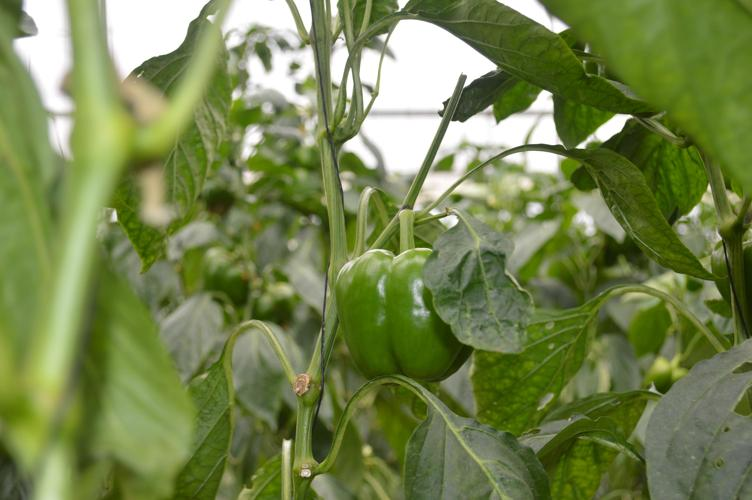BellPepper: (334, 245, 478, 395)
